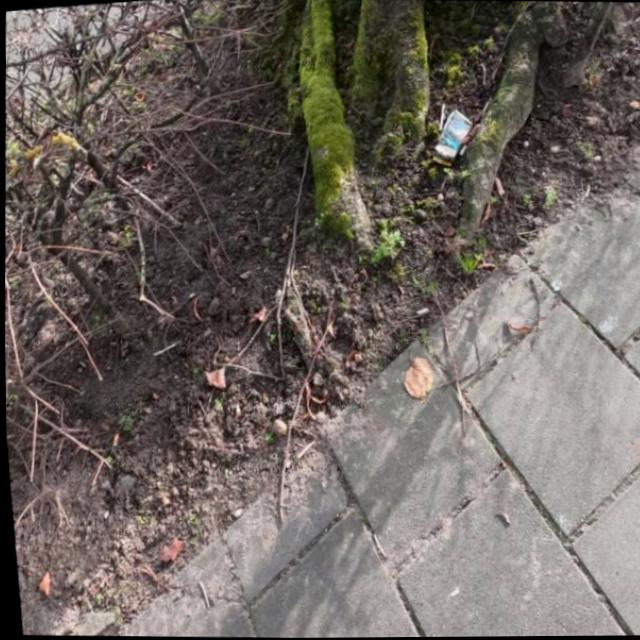Paper: (427, 107, 475, 169)
